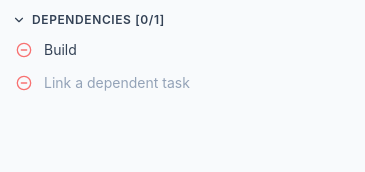
it: TaskDependencies › existing dependencies › shows the server error when reversing would create a cycle
What coordinates should you click on to do the following:
click the button named "Dependency type: Blocking" next to "Build"
I would click on:
 (24, 50)
Its box is [12, 38, 36, 62].
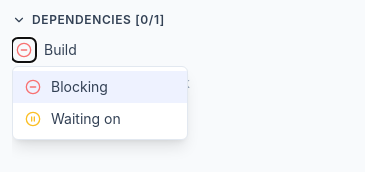
What coordinates should you click on to do the following:
click the menu item "Waiting on"
I would click on:
 (100, 119)
Its box is [13, 103, 187, 135].
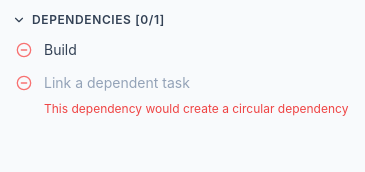
Expected: the text "This dependency would create a circular dependency" is shown, [44, 101, 348, 116]
